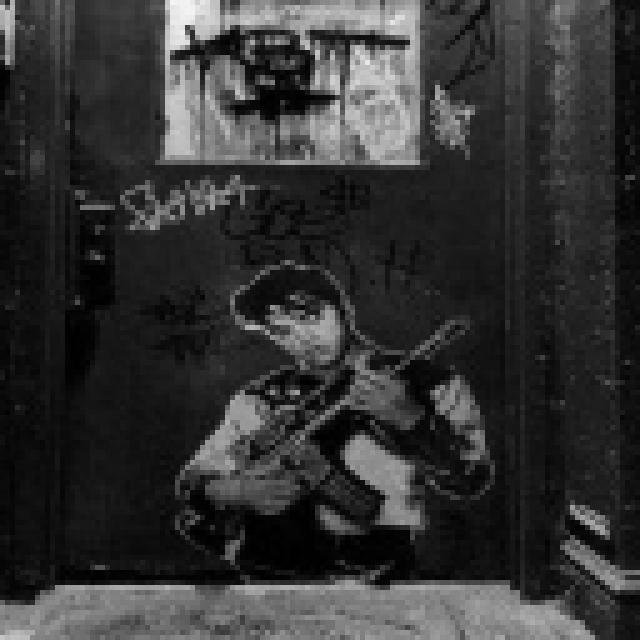Rifle: (140, 306, 504, 576)
